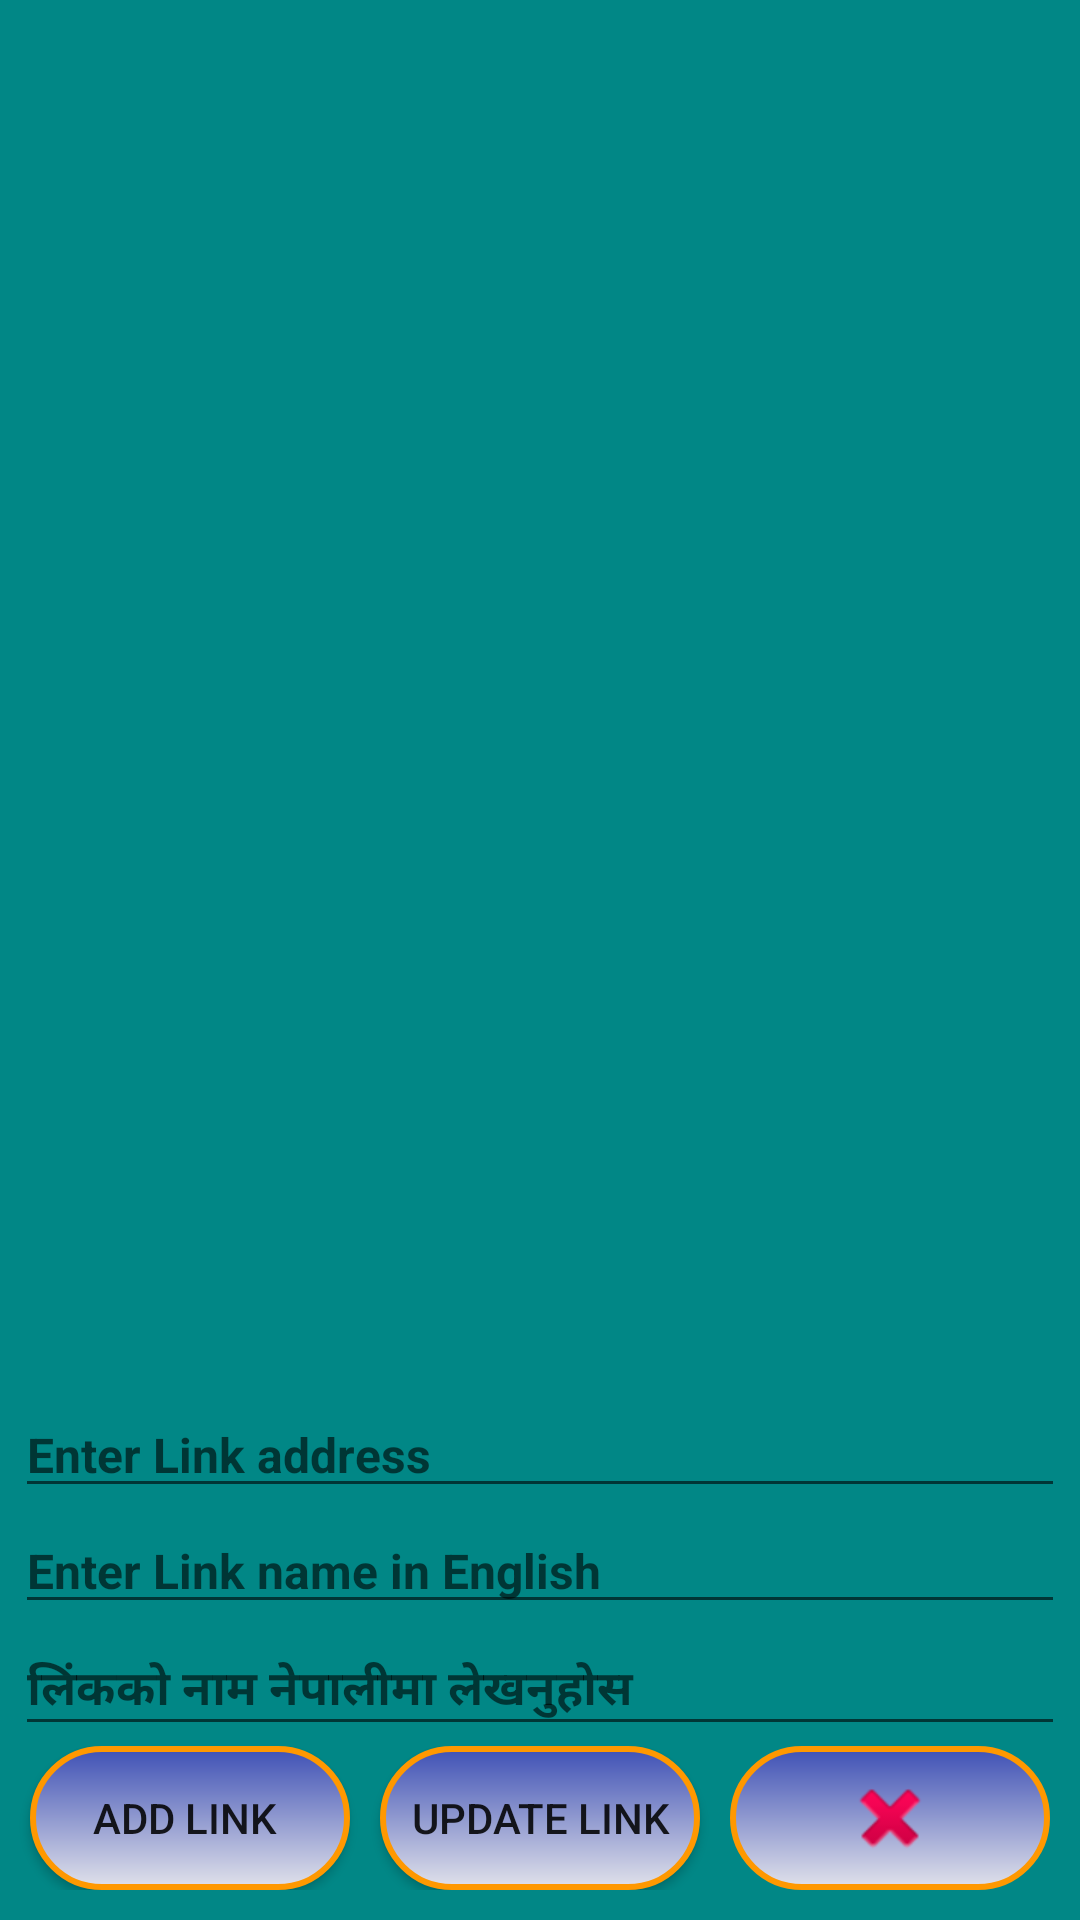

Icons on this 1080 × 1920 Android screen, each with its box as (x1, y1, x2, y2):
delete: (730, 1746, 1050, 1890)
